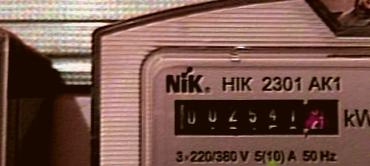0: (185, 104, 198, 125), (206, 102, 218, 123)
1: (287, 101, 298, 124)
2: (226, 101, 240, 123)
4: (267, 101, 278, 122)
5: (246, 101, 259, 124)
6: (308, 117, 320, 129)
screen: (161, 88, 351, 143)
